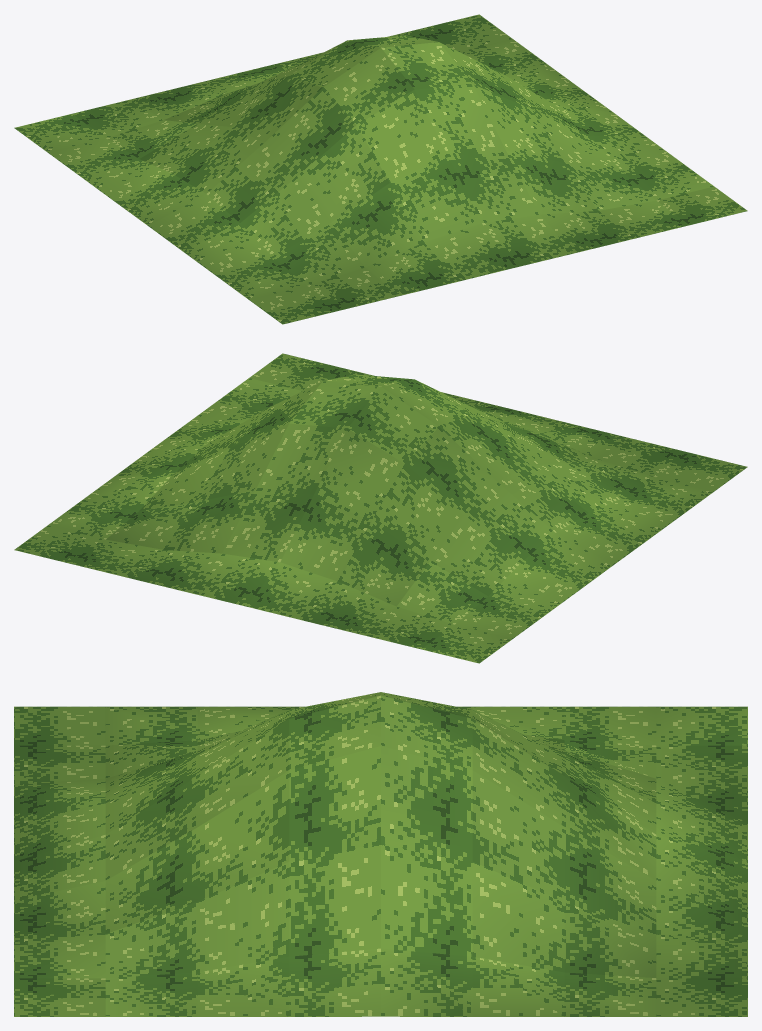
The model's file is mter.hill.glb.
The picture shows the model from 3 angles, top to bottom: view 1: azimuth 30°, elevation 25°; view 2: azimuth 150°, elevation 25°; view 3: azimuth 270°, elevation 25°; orthographic projection. The views are drawn at different scales.
Parts seen in each view (by area): view 1: kit_shell_hill; view 2: kit_shell_hill; view 3: kit_shell_hill.
Part boxes in pixels (bbox=[...]): kit_shell_hill: bbox=[14, 14, 747, 324]; kit_shell_hill: bbox=[14, 353, 747, 663]; kit_shell_hill: bbox=[14, 692, 747, 1016].
Size of the model in its own units: 16 by 4 by 16.
Materials: 1 (1 with a texture image).
